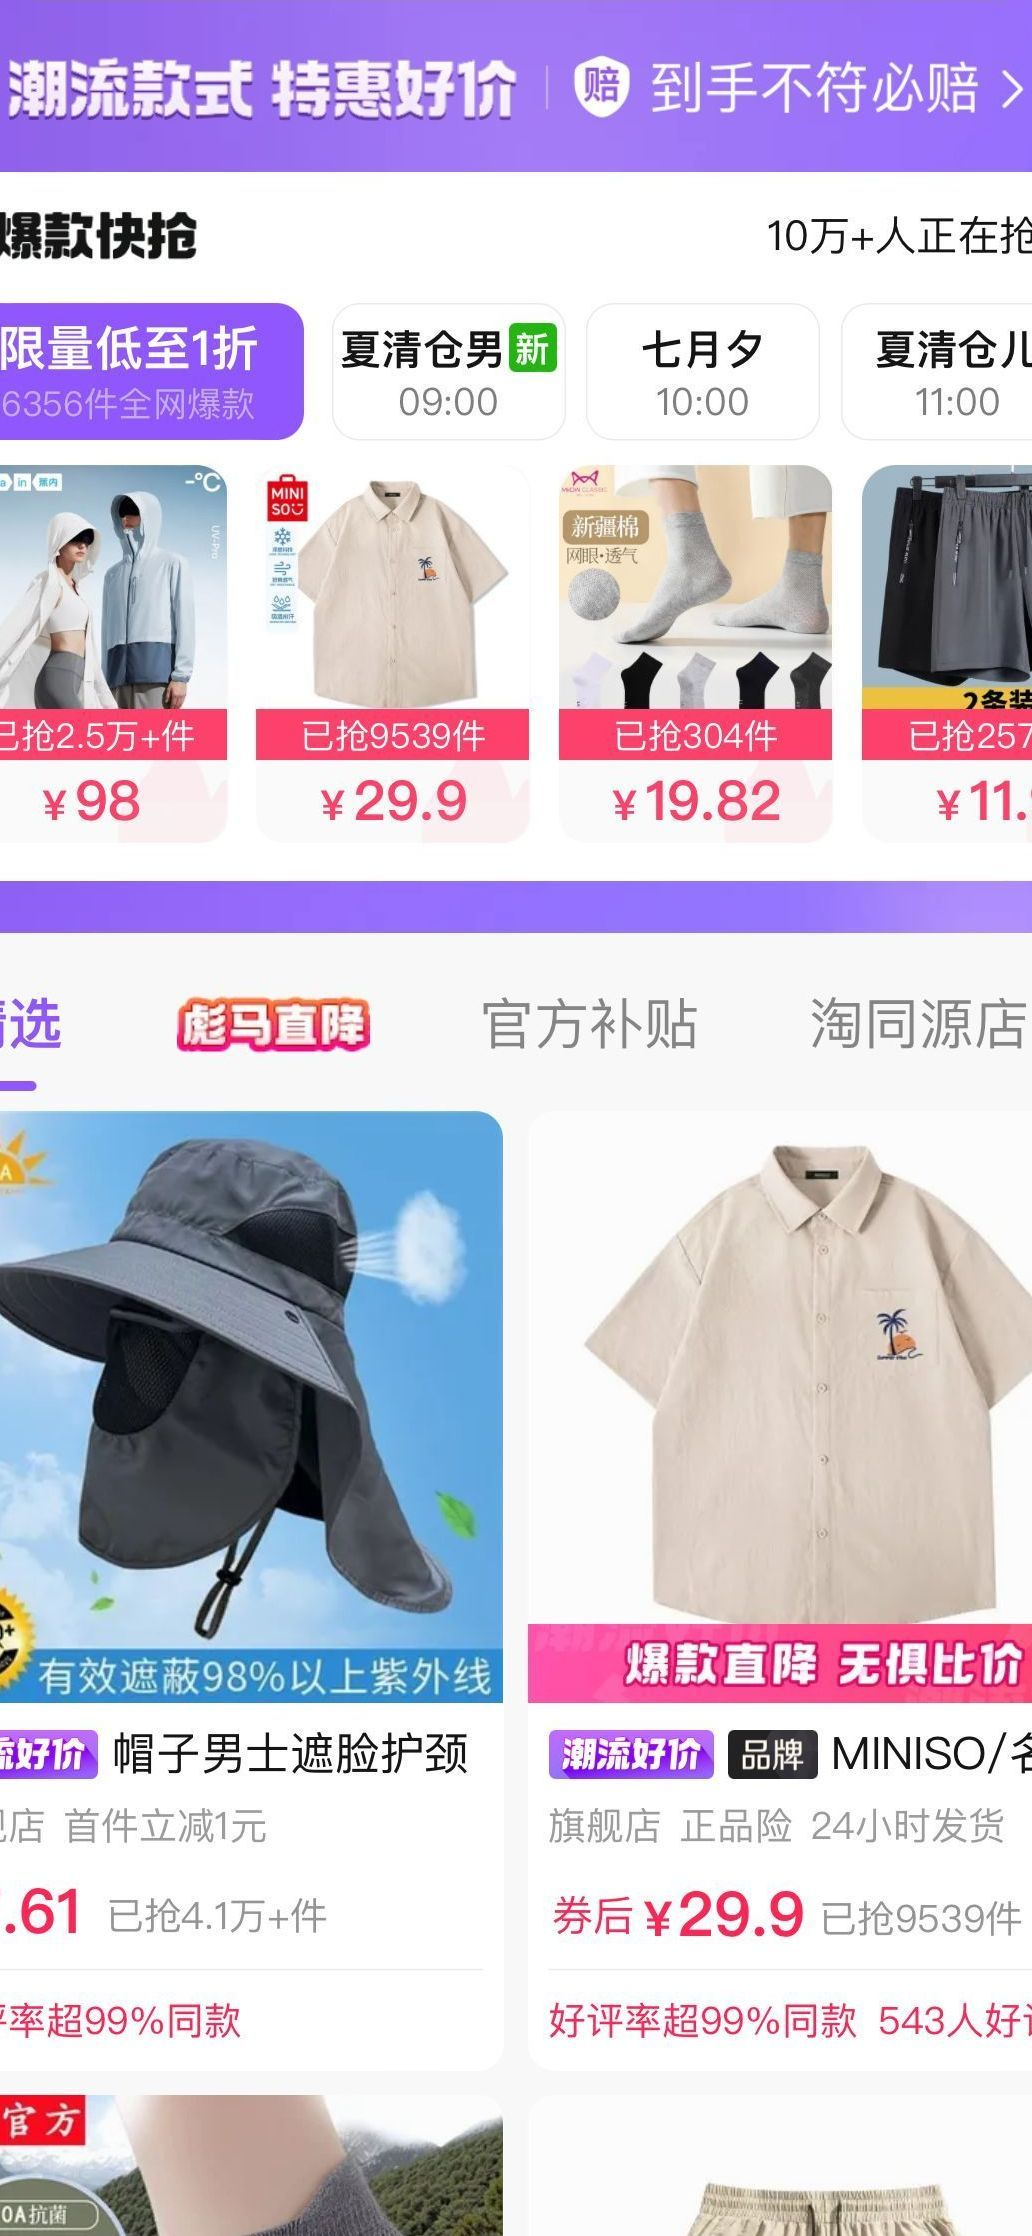item: (11, 1094, 529, 2066), (527, 1097, 1023, 2092)
seckill: (1, 268, 1031, 871)
